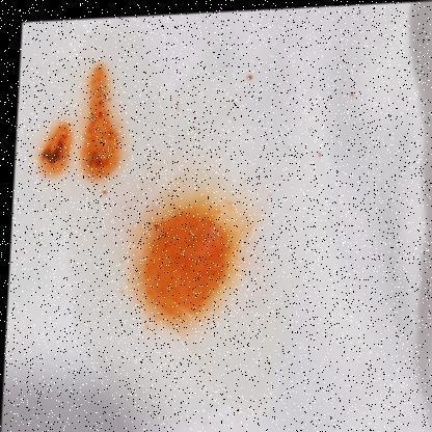kimchi: (134, 205, 247, 328), (77, 61, 124, 185), (37, 130, 68, 181), (239, 68, 254, 85), (99, 188, 110, 204)
